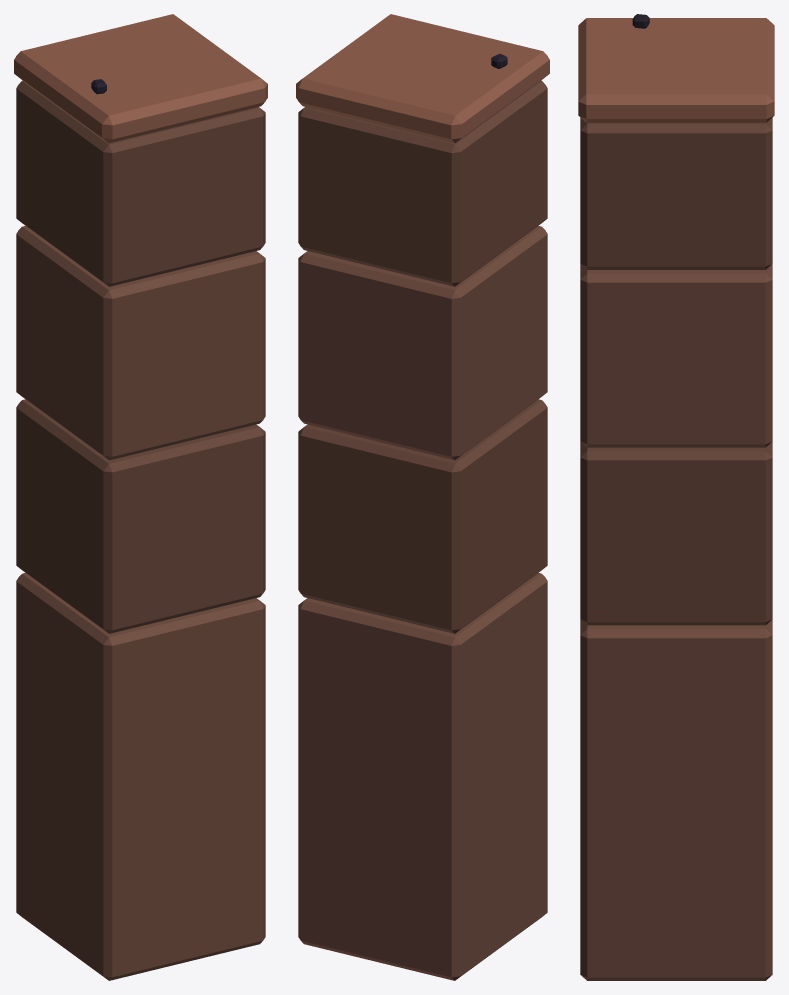
The model's file is column-caldera-4.glb.
3 renders of one model, left to right at view 1: azimuth 30°, elevation 25°; view 2: azimuth 150°, elevation 25°; view 3: azimuth 270°, elevation 25°, orthographic. The views are drawn at different scales.
Parts seen in each view (by area): view 1: column-caldera-4; view 2: column-caldera-4; view 3: column-caldera-4.
Boxes of the visible parts, x1,y1,x2,y2 form: column-caldera-4: (14,14,267,980); column-caldera-4: (296,14,549,980); column-caldera-4: (578,14,774,980).
Size of the model in its own units: 1 by 5.05 by 1.
